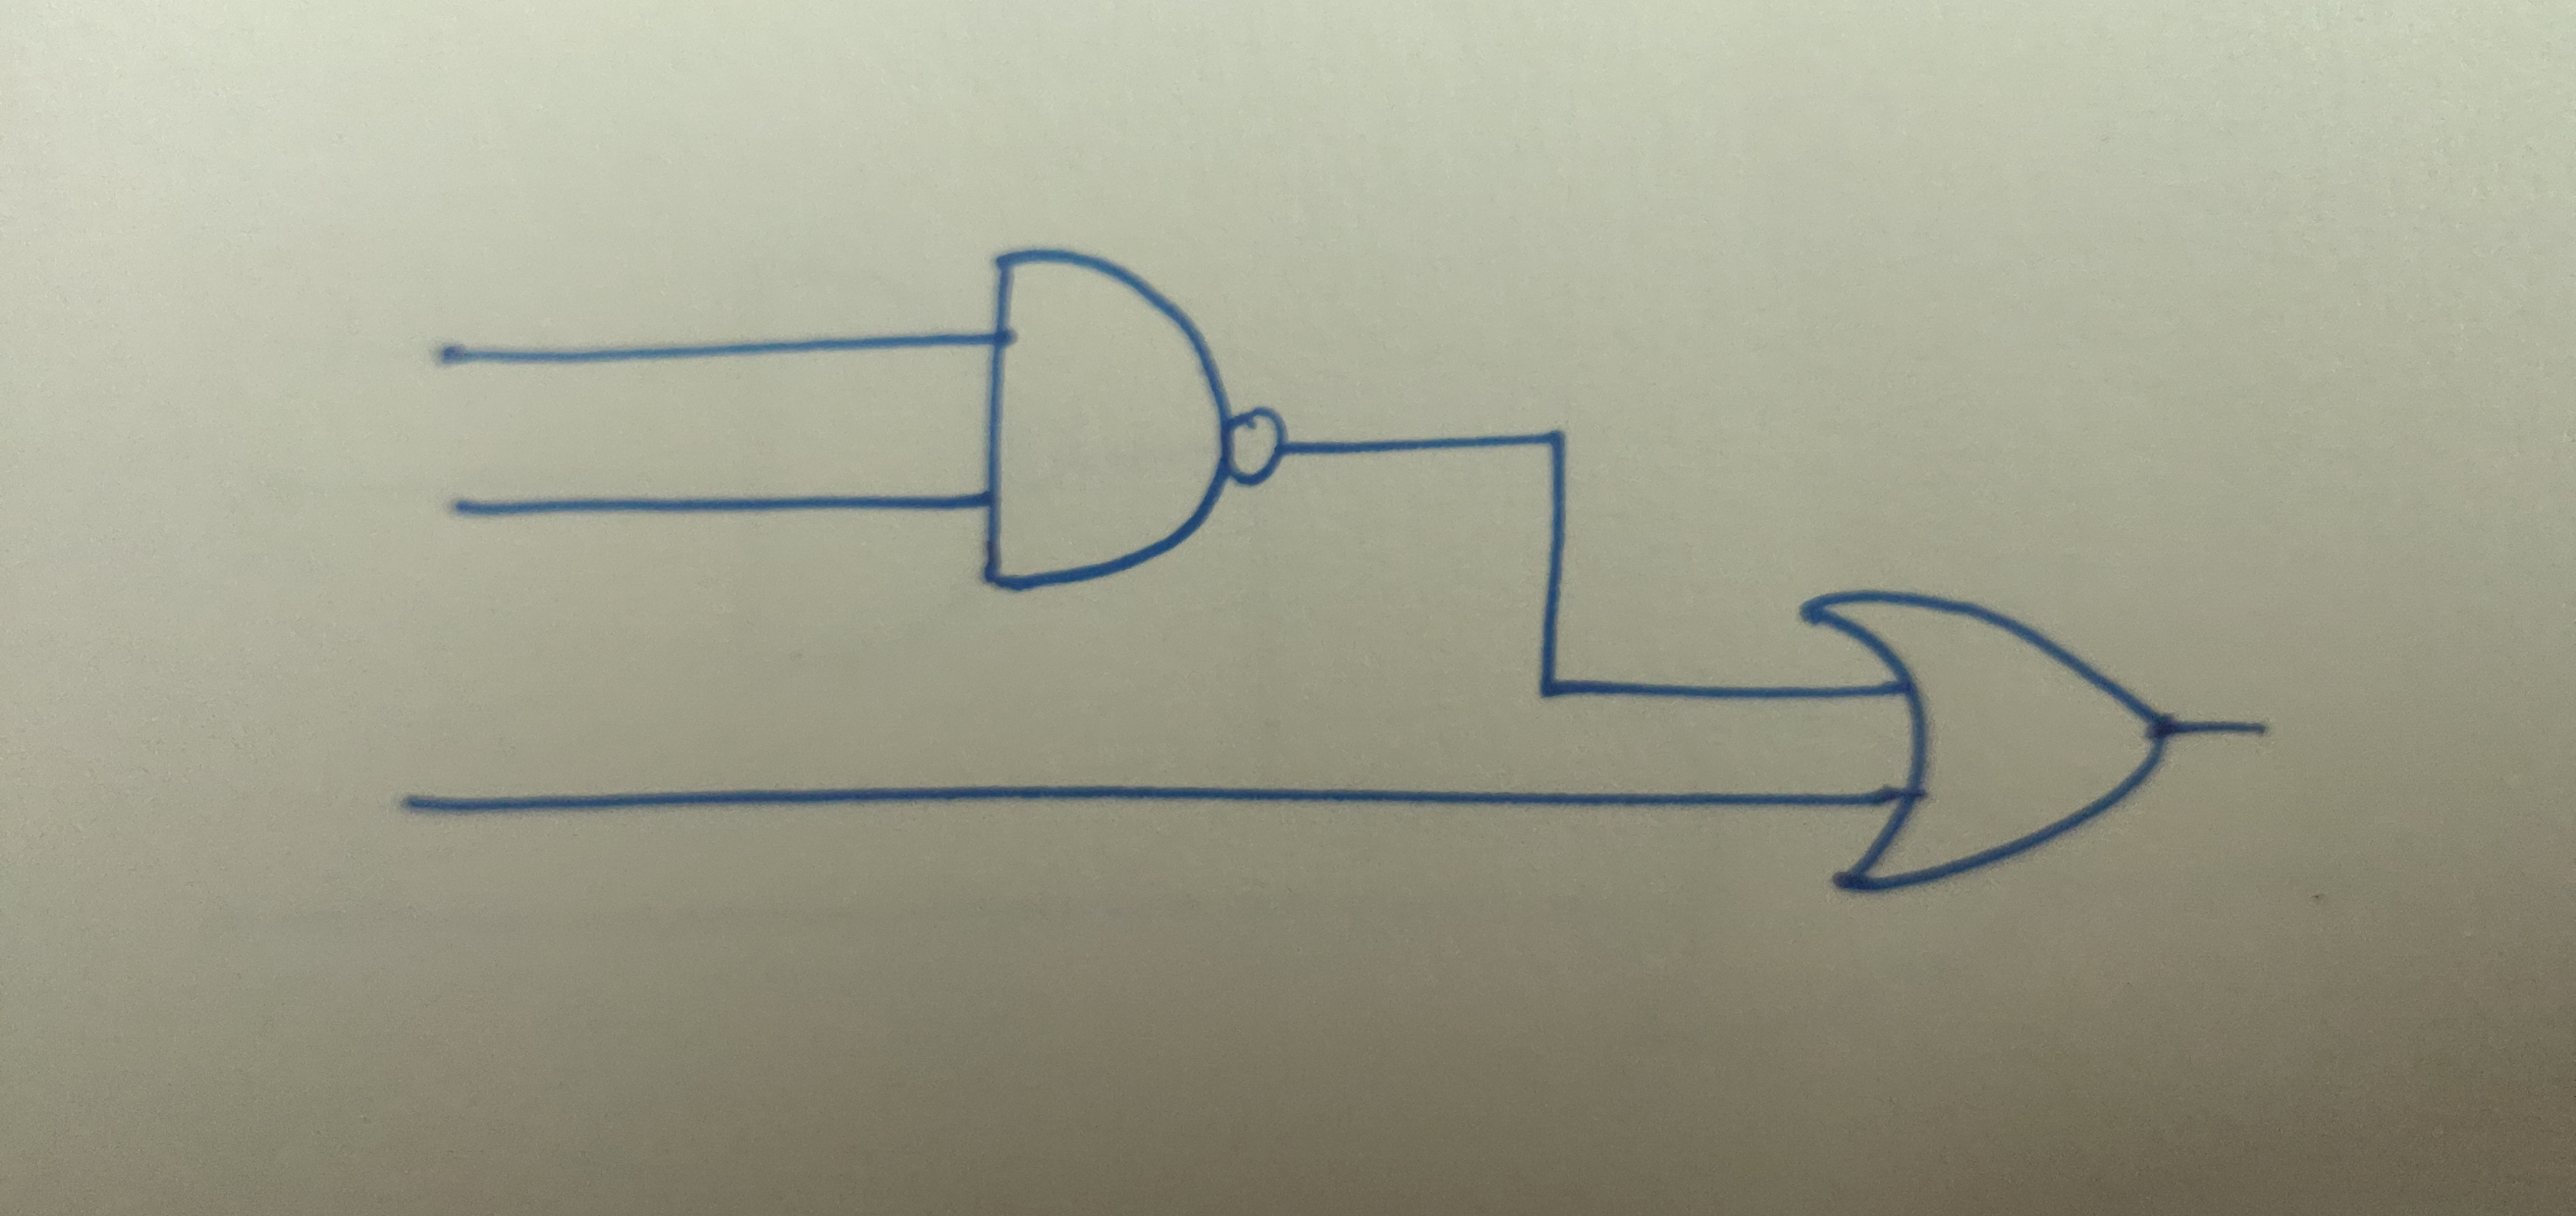and: (978, 243, 1235, 595)
not: (1229, 401, 1291, 496)
or: (1791, 582, 2182, 897)
